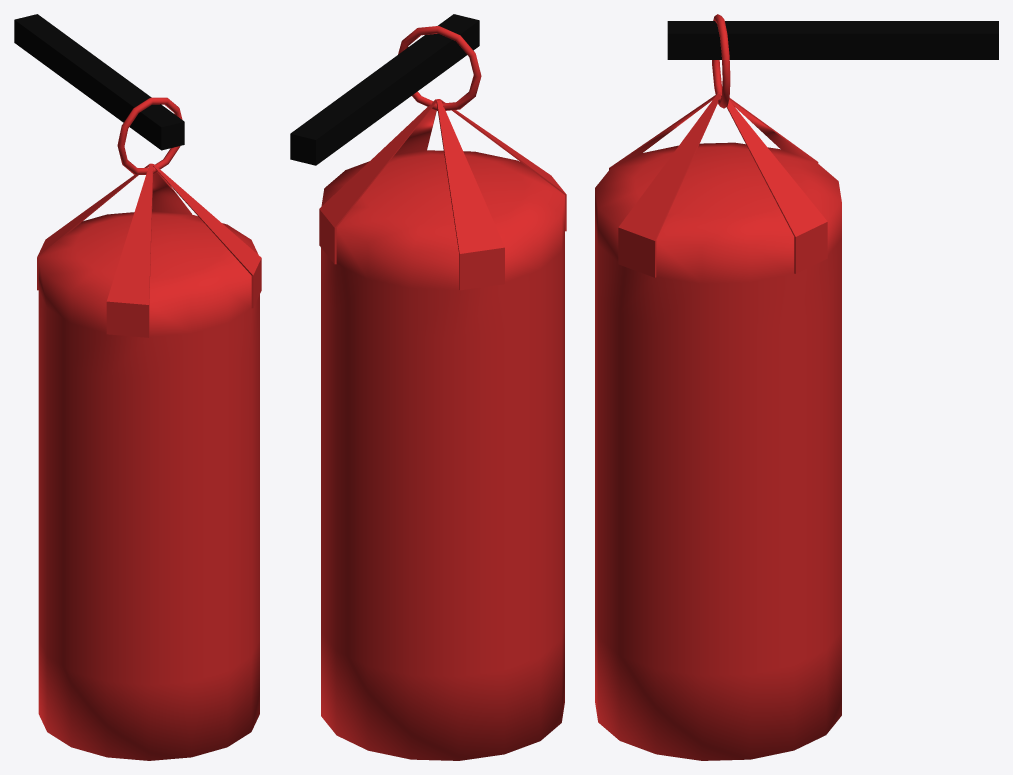
Rendered from sandbag.FBX.
3 renders of one model, left to right at view 1: azimuth 30°, elevation 25°; view 2: azimuth 150°, elevation 25°; view 3: azimuth 270°, elevation 25°, orthographic. The views are drawn at different scales.
Parts seen in each view (by area): view 1: Sphere001; view 2: Sphere001; view 3: Sphere001.
Boxes of the visible parts, <box> form: Sphere001: <box>14,14,261,760</box>; Sphere001: <box>290,14,566,760</box>; Sphere001: <box>595,14,998,760</box>.
Size of the model in its own units: 26.85 by 86.04 by 43.95.
